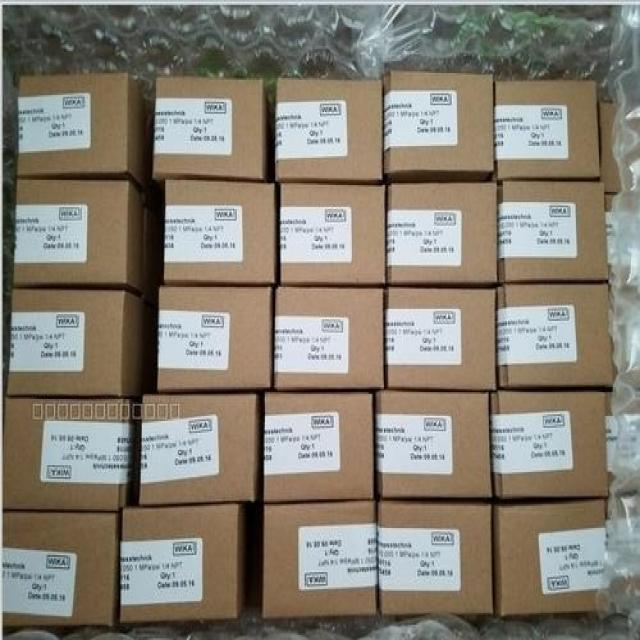box: (13, 173, 146, 290), (3, 394, 131, 513), (15, 75, 146, 190), (119, 504, 244, 623), (6, 289, 142, 397), (262, 501, 378, 620), (376, 502, 494, 615), (493, 499, 607, 615), (138, 396, 259, 504), (3, 511, 116, 626), (375, 389, 492, 497), (381, 71, 493, 182), (490, 392, 608, 497), (494, 284, 614, 387), (154, 78, 270, 183), (381, 285, 497, 390), (264, 389, 372, 501), (164, 180, 274, 289), (274, 76, 383, 185), (273, 282, 384, 389), (157, 289, 273, 389), (387, 182, 498, 284), (497, 183, 607, 284), (280, 182, 388, 284), (494, 80, 602, 178), (599, 100, 620, 194)
